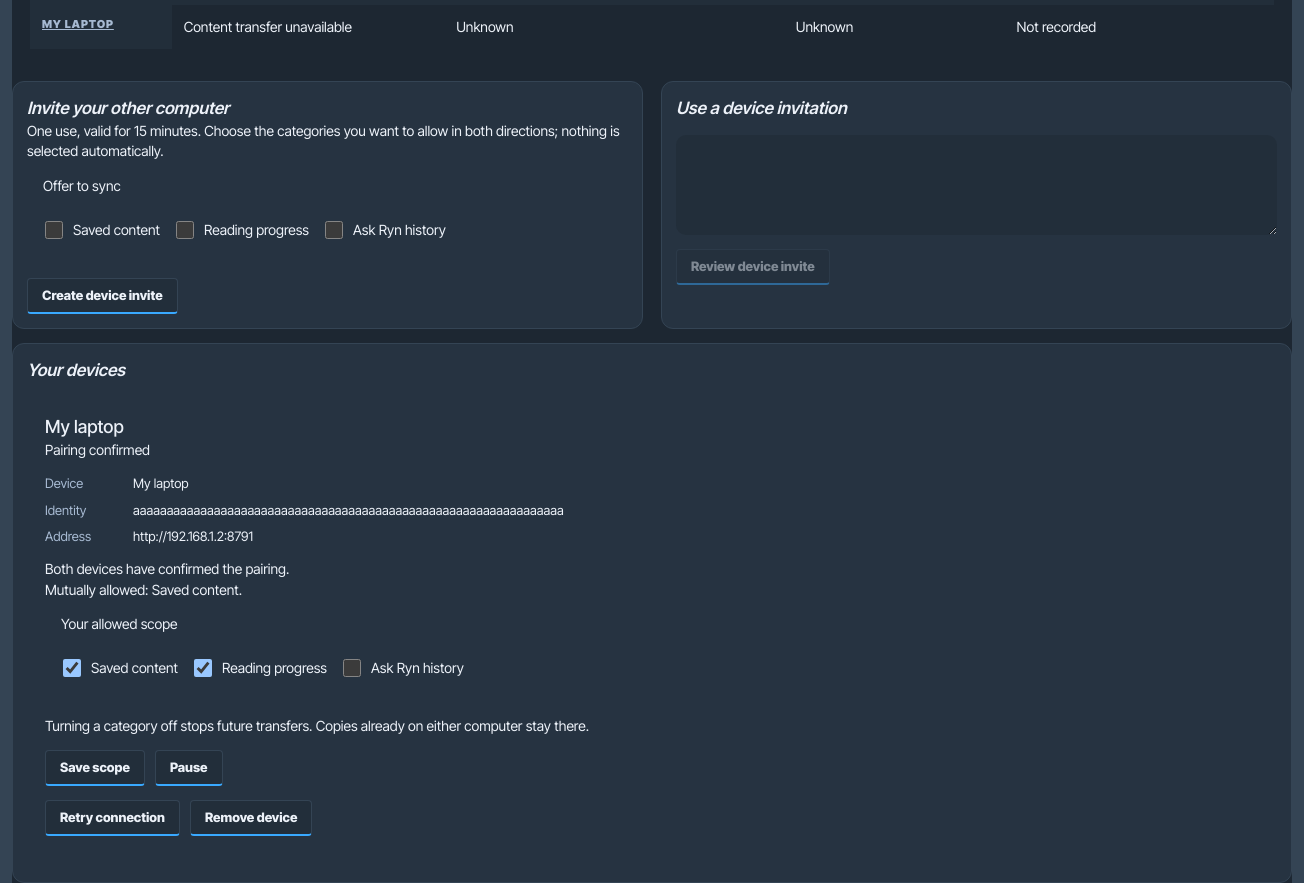
Test case: shows pairing as distinct from synced data and requires review before removal
(page scrolled)
Expected: the text "Pairing confirmed" is shown, top-left (45, 441), bottom-right (150, 458)
Click the button "Remove device": (251, 818) top-left (190, 800), bottom-right (312, 836)
(page scrolled)
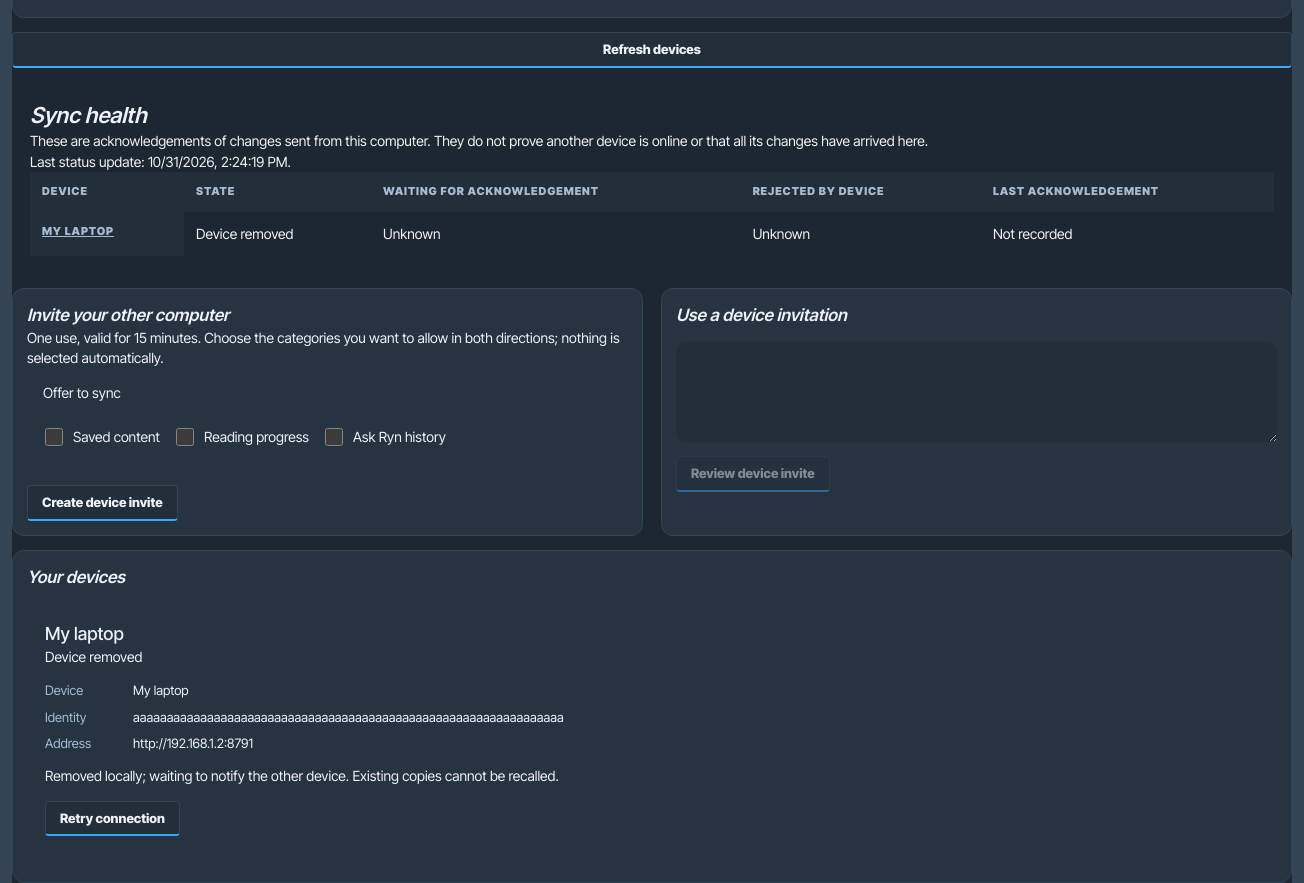
Now the text "Removed locally; waiting to notify" is shown, box top-left (45, 767), bottom-right (349, 784)
